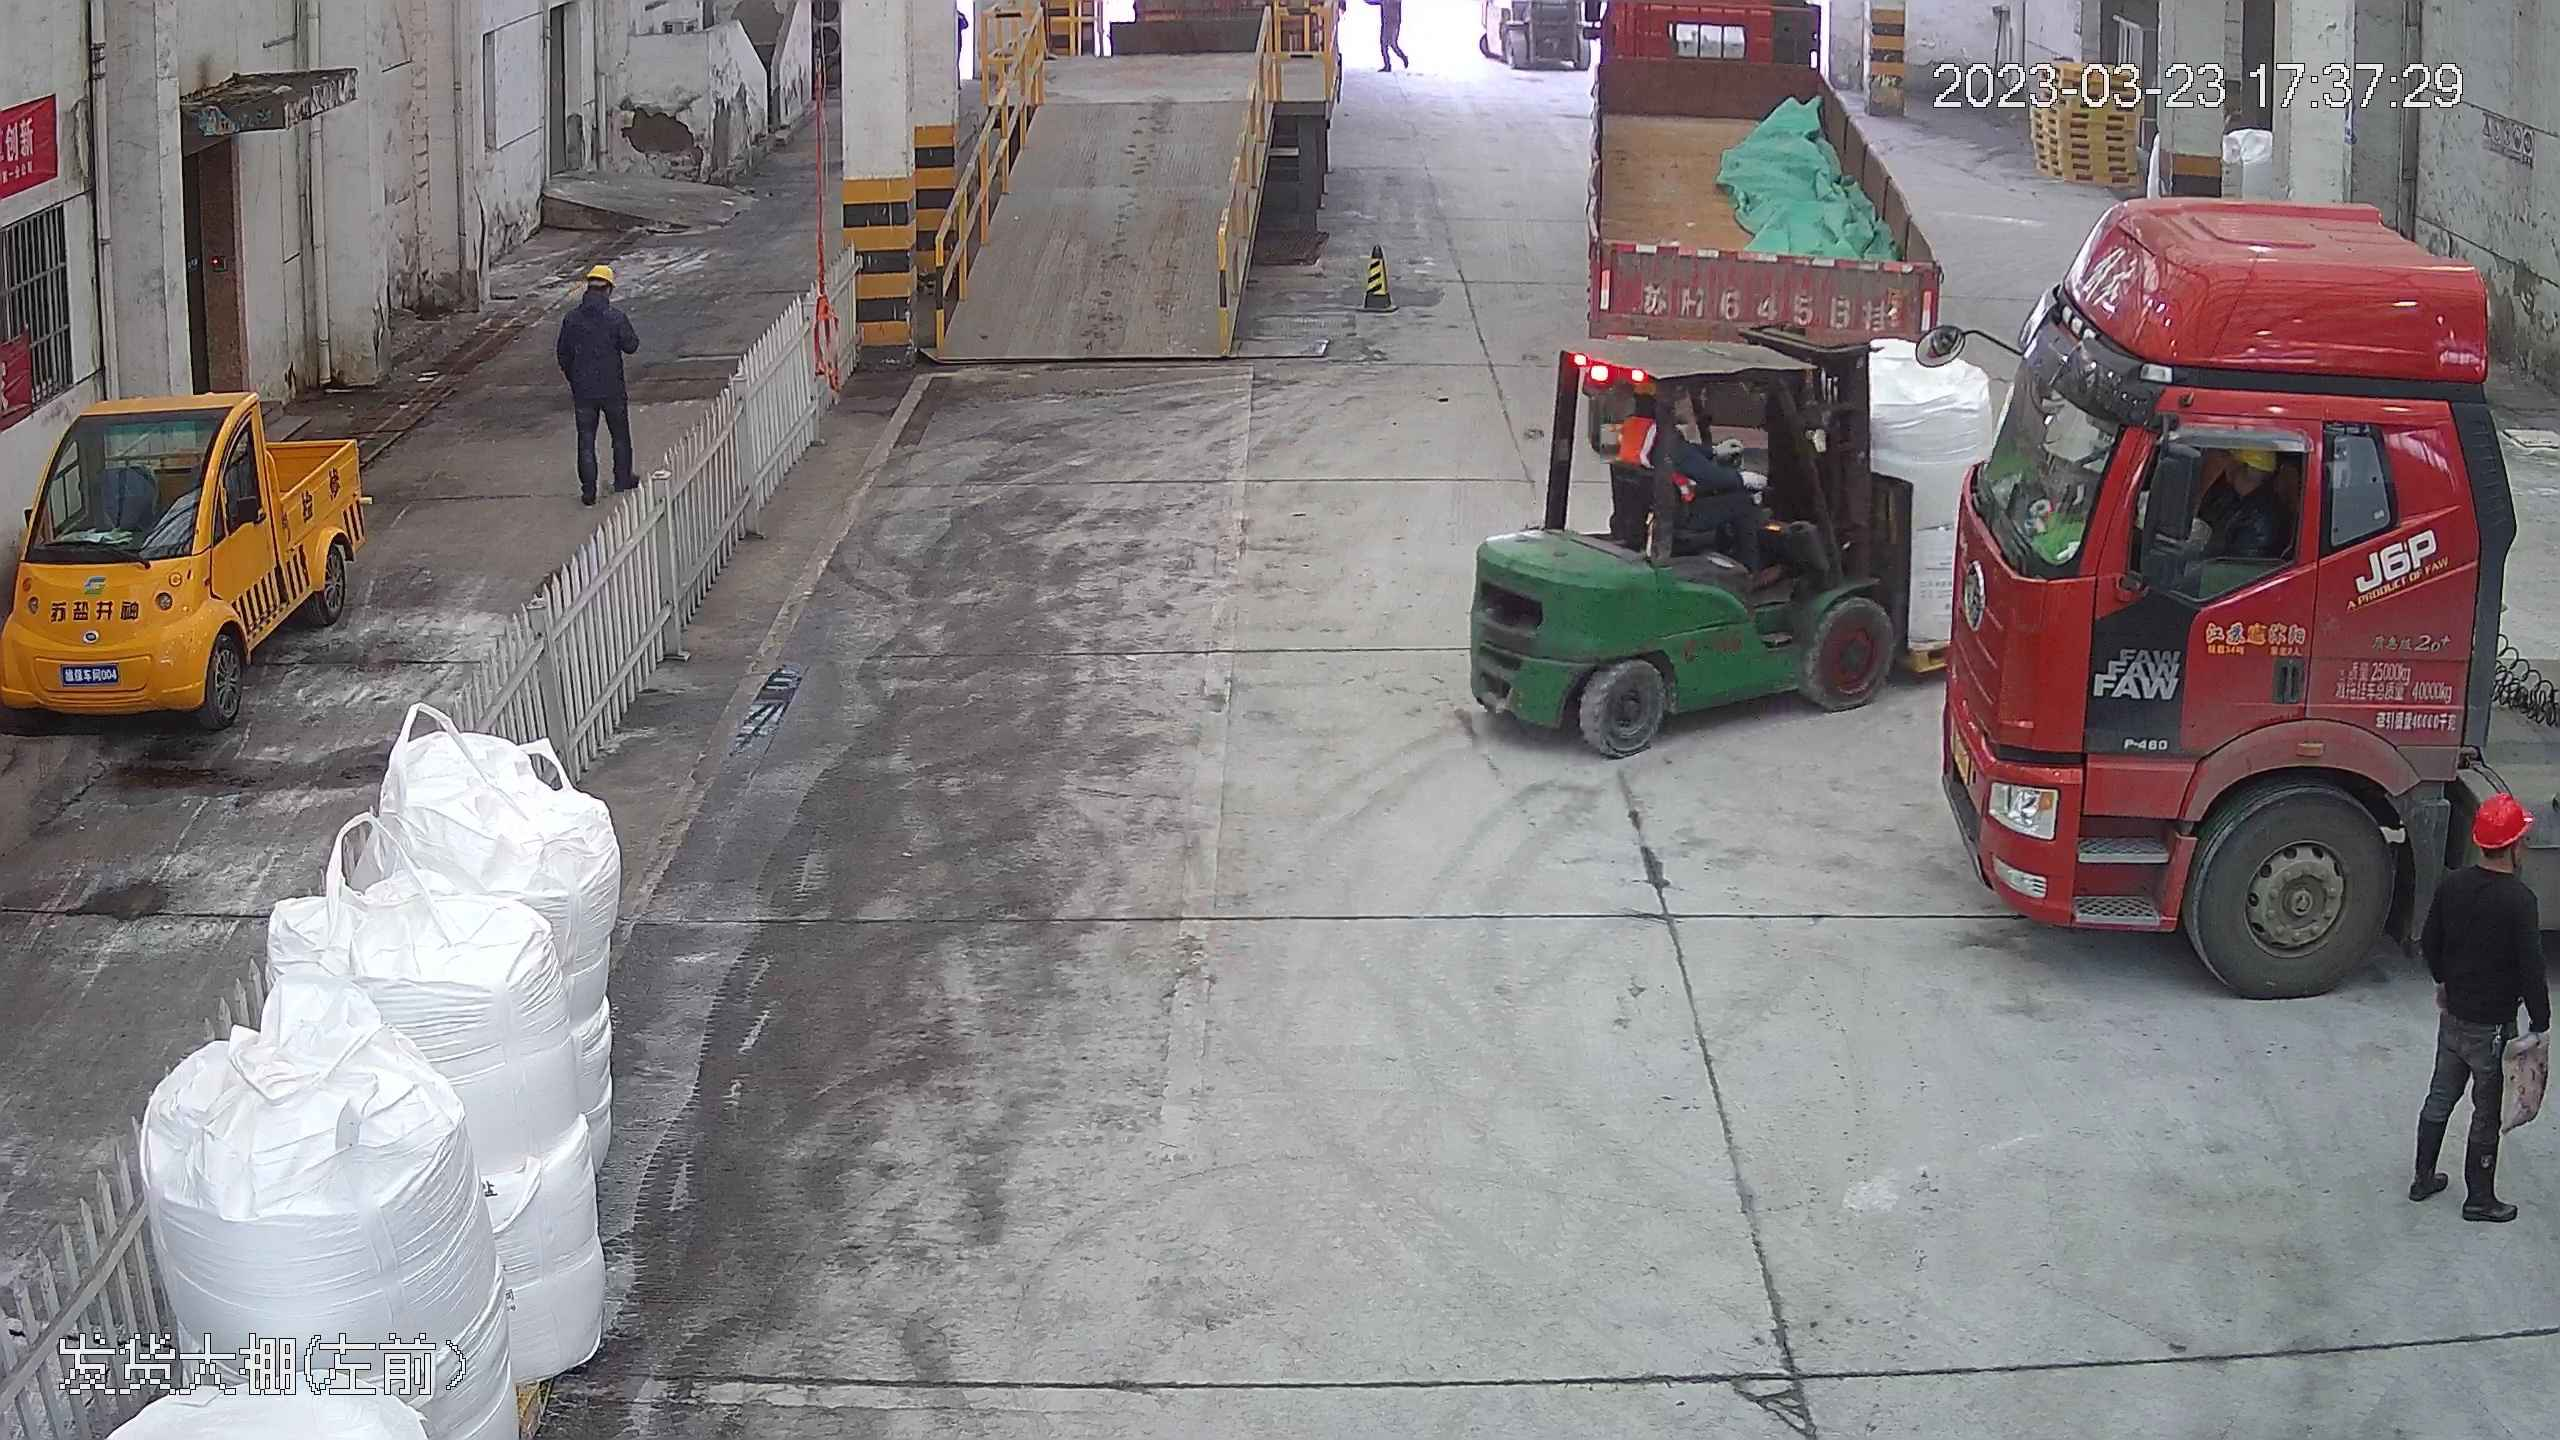head: (2431, 787, 2548, 929), (561, 260, 632, 332)
helmet: (2468, 787, 2535, 847), (582, 260, 618, 285)
people: (2402, 787, 2556, 1226), (553, 257, 642, 507)
truck: (1928, 183, 2527, 979), (1572, 3, 1948, 362)
